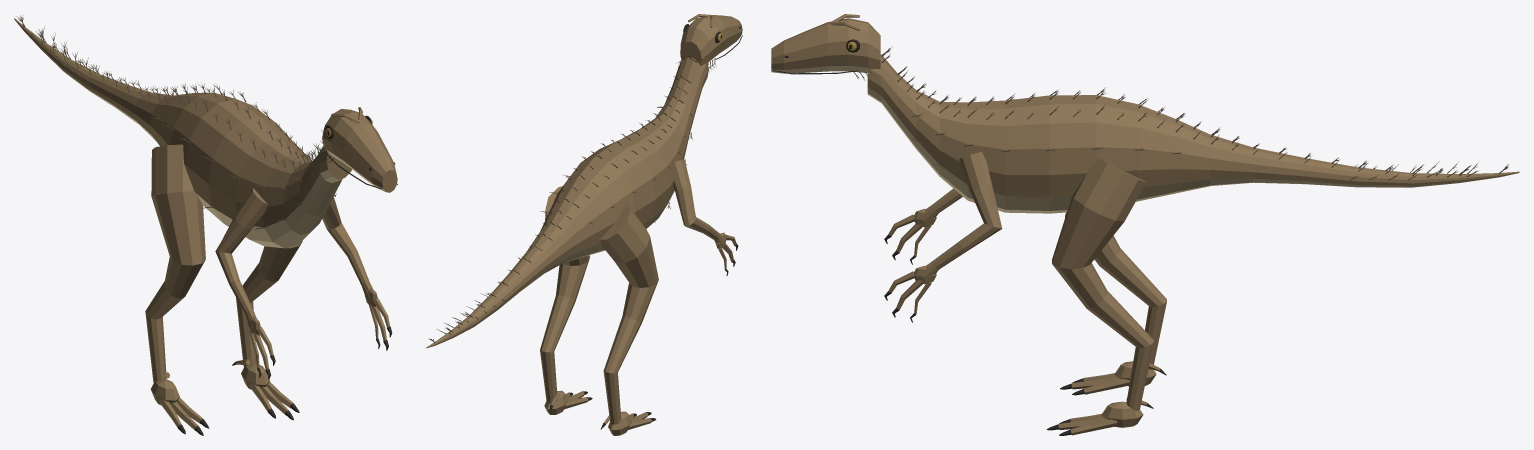
3 renders of one model, left to right at view 1: azimuth 30°, elevation 25°; view 2: azimuth 150°, elevation 25°; view 3: azimuth 270°, elevation 25°, orthographic. The views are drawn at different scales.
Visible parts, largest first — view 1: axial-neck-trunk-tail, hindlimb-left, low-skull-and-modest-y-ridge, hindlimb-right, long-three-fingered-forelimb-left, branched-filament-covering-inferred-distribution, long-three-fingered-forelimb-right, claws-pupils-nares-mouth; view 2: axial-neck-trunk-tail, hindlimb-left, hindlimb-right, low-skull-and-modest-y-ridge, long-three-fingered-forelimb-left, branched-filament-covering-inferred-distribution, claws-pupils-nares-mouth; view 3: axial-neck-trunk-tail, hindlimb-right, low-skull-and-modest-y-ridge, hindlimb-left, long-three-fingered-forelimb-right, branched-filament-covering-inferred-distribution, long-three-fingered-forelimb-left, claws-pupils-nares-mouth.
Boxes of the visible parts, x1,y1,x2,y2 form: axial-neck-trunk-tail: [14, 18, 351, 248]; hindlimb-left: [145, 144, 205, 430]; low-skull-and-modest-y-ridge: [322, 107, 397, 192]; hindlimb-right: [235, 241, 302, 415]; long-three-fingered-forelimb-left: [215, 188, 273, 369]; branched-filament-covering-inferred-distribution: [16, 15, 336, 229]; long-three-fingered-forelimb-right: [322, 197, 389, 340]; claws-pupils-nares-mouth: [178, 115, 397, 435]; axial-neck-trunk-tail: [426, 57, 708, 348]; hindlimb-left: [600, 203, 658, 435]; hindlimb-right: [540, 186, 589, 414]; low-skull-and-modest-y-ridge: [680, 14, 742, 65]; long-three-fingered-forelimb-left: [673, 159, 736, 270]; branched-filament-covering-inferred-distribution: [429, 55, 716, 342]; claws-pupils-nares-mouth: [549, 24, 742, 429]; axial-neck-trunk-tail: [867, 54, 1519, 213]; hindlimb-right: [1052, 158, 1153, 435]; low-skull-and-modest-y-ridge: [771, 14, 880, 73]; hindlimb-left: [1065, 212, 1166, 394]; long-three-fingered-forelimb-right: [888, 152, 1002, 313]; branched-filament-covering-inferred-distribution: [852, 46, 1508, 203]; long-three-fingered-forelimb-left: [888, 188, 962, 256]; claws-pupils-nares-mouth: [772, 39, 1166, 435].
Bounding box in the file's own units: 0.3133 × 0.924 × 1.6.
